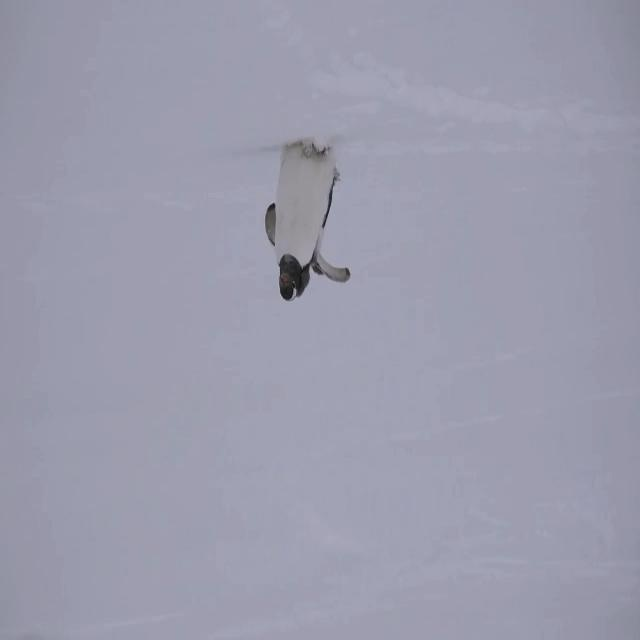penguin: (264, 136, 352, 301)
